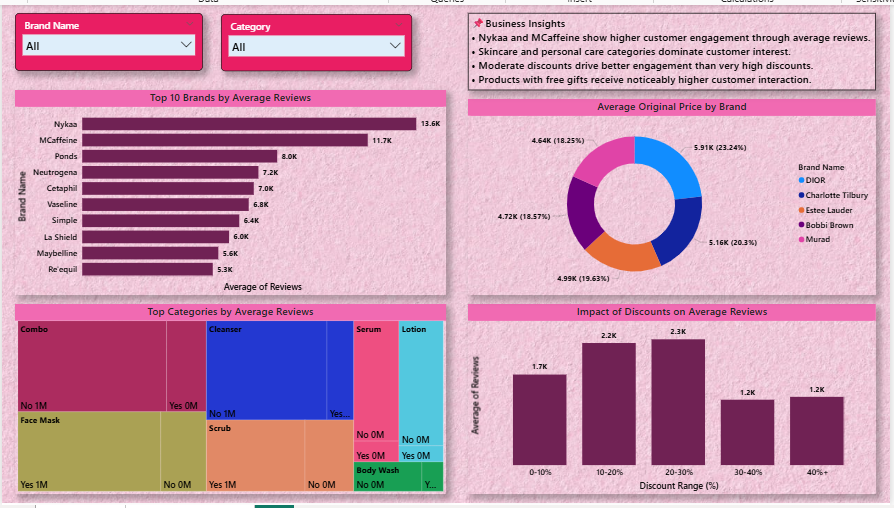

This screenshot's page, from the dashboard's own definition file:
{"tool":"powerbi","page":{"name":"Product Insights","canvas":[1600,900],"ordinal":1},"visuals":[{"type":"clusteredBarChart","title":"Top 10 Brands by Average Reviews","fields":{"Category":["Nykaa Analysis Dataset.Brand Name"],"Y":["Nykaa Analysis Dataset.Reviews"]},"box":[23.4,153,775.8,369],"z":0},{"type":"clusteredColumnChart","title":"Impact of Discounts on Average Reviews","fields":{"Category":["Nykaa Analysis Dataset.Discount Range"],"Y":["Nykaa Analysis Dataset.Reviews"]},"box":[838.8,538.2,734.4,342],"z":1000},{"type":"donutChart","title":"Average Original Price by Brand","fields":{"Y":["Nykaa Analysis Dataset.Original Price"],"Category":["Nykaa Analysis Dataset.Brand Name"]},"box":[838.8,169.2,734.4,352.8],"z":2000},{"type":"treemap","title":"Top Categories by Average Reviews","fields":{"Values":["Nykaa Analysis Dataset.Reviews"],"Group":["Nykaa Analysis Dataset.Category"],"Details":["Nykaa Analysis Dataset.Free_Gift_Flag"]},"box":[23.4,538.2,775.8,342],"z":3000},{"type":"slicer","title":"Filter by Brand","fields":{"Values":["Nykaa Analysis Dataset.Brand Name"]},"box":[23.4,14.4,338.4,104.4],"z":4000},{"type":"slicer","fields":{"Values":["Nykaa Analysis Dataset.Category"]},"box":[394.2,16.2,343.8,102.6],"z":5000},{"type":"textbox","box":[838.8,14.4,734.4,138.6],"z":6000}]}

Visuals, with their boxes on the page's 1600x900 design canvas (x1, y1, x2, y2). These are canvas units, not pixel positions in the 894x508 screenshot, which may show the page scaled, cropped or inside an application window:
"Top 10 Brands by Average Reviews" clusteredBarChart: <bbox>23, 153, 799, 522</bbox>
"Impact of Discounts on Average Reviews" clusteredColumnChart: <bbox>839, 538, 1573, 880</bbox>
"Average Original Price by Brand" donutChart: <bbox>839, 169, 1573, 522</bbox>
"Top Categories by Average Reviews" treemap: <bbox>23, 538, 799, 880</bbox>
"Filter by Brand" slicer: <bbox>23, 14, 362, 119</bbox>
slicer - Nykaa Analysis Dataset.Category: <bbox>394, 16, 738, 119</bbox>
textbox: <bbox>839, 14, 1573, 153</bbox>
